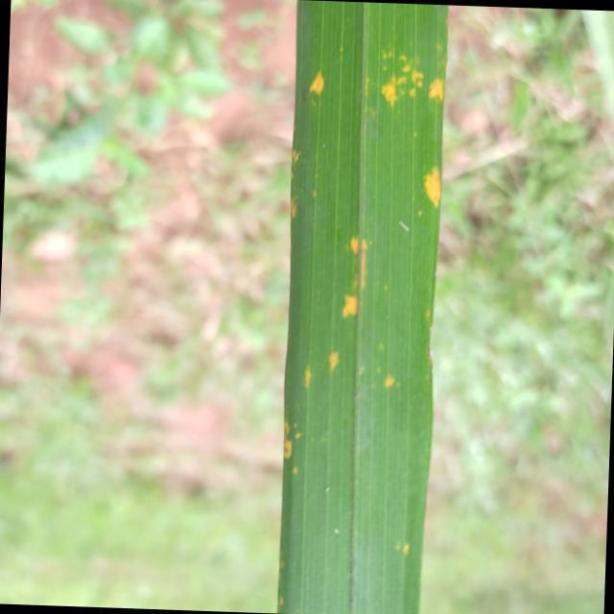Kalium: (280, 0, 451, 614)
